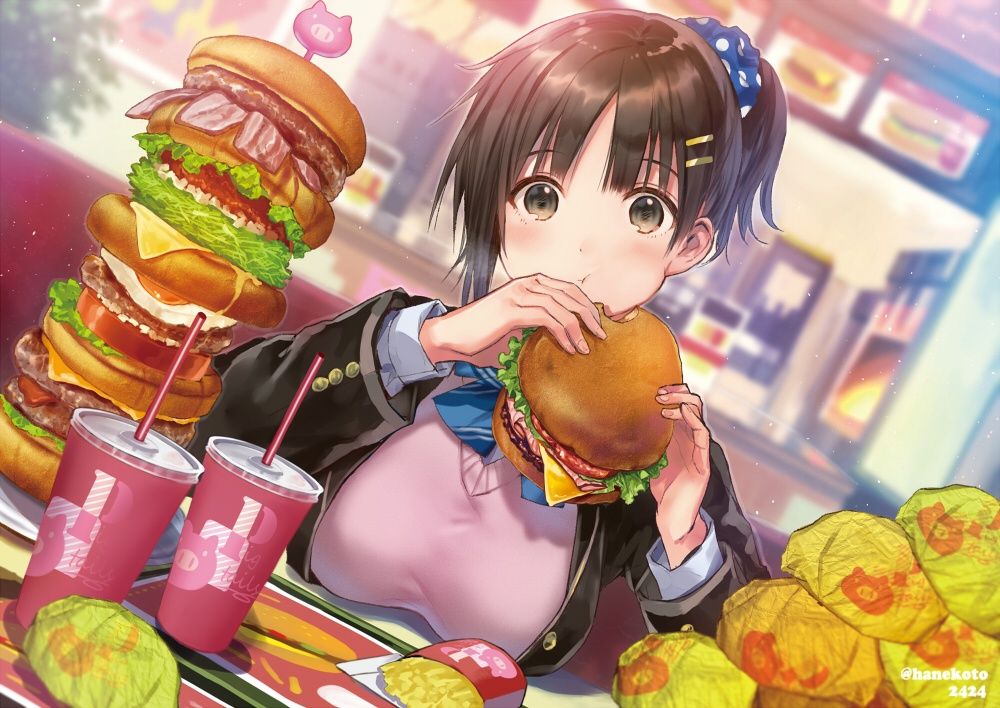纸片人正脸: (436, 11, 765, 308)
